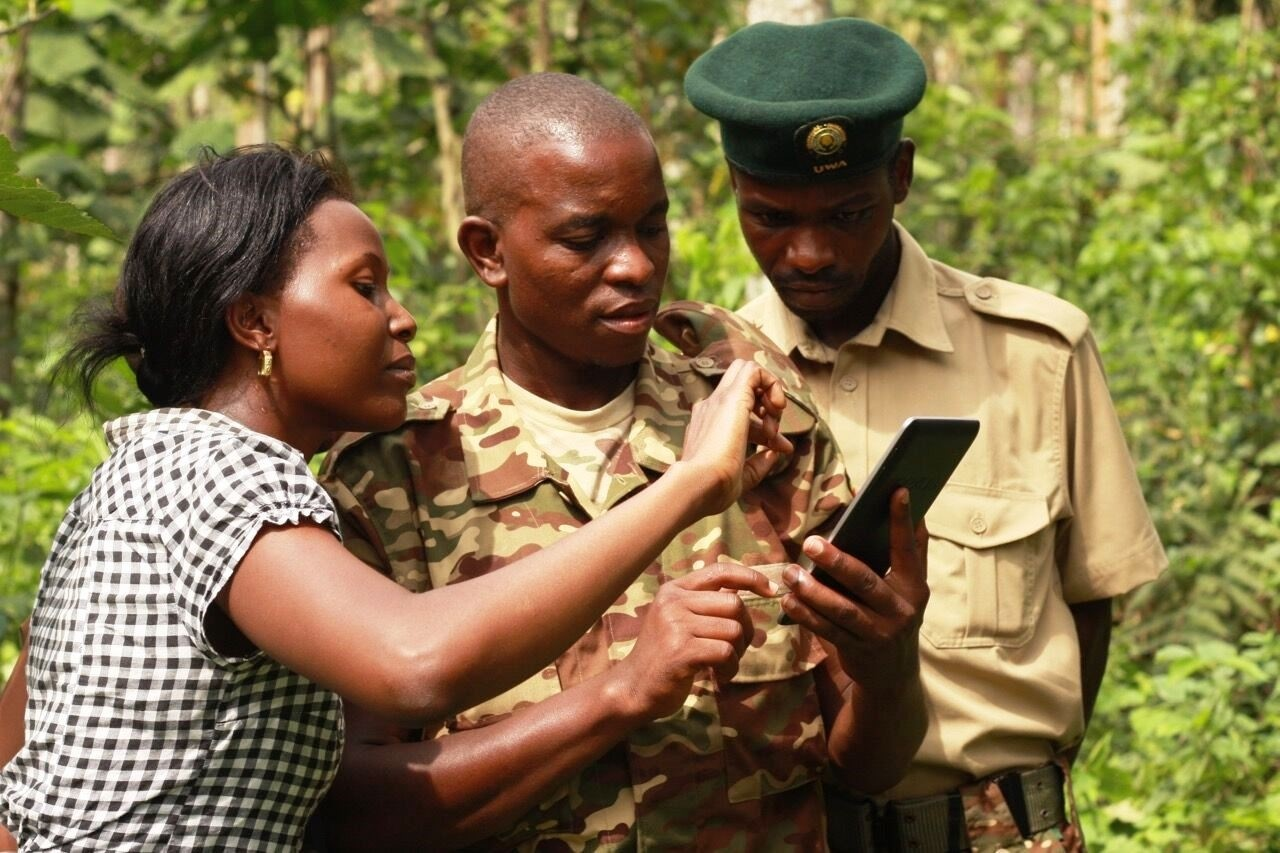face_no_mask: (118, 150, 418, 432), (460, 67, 671, 369), (722, 89, 912, 322)
